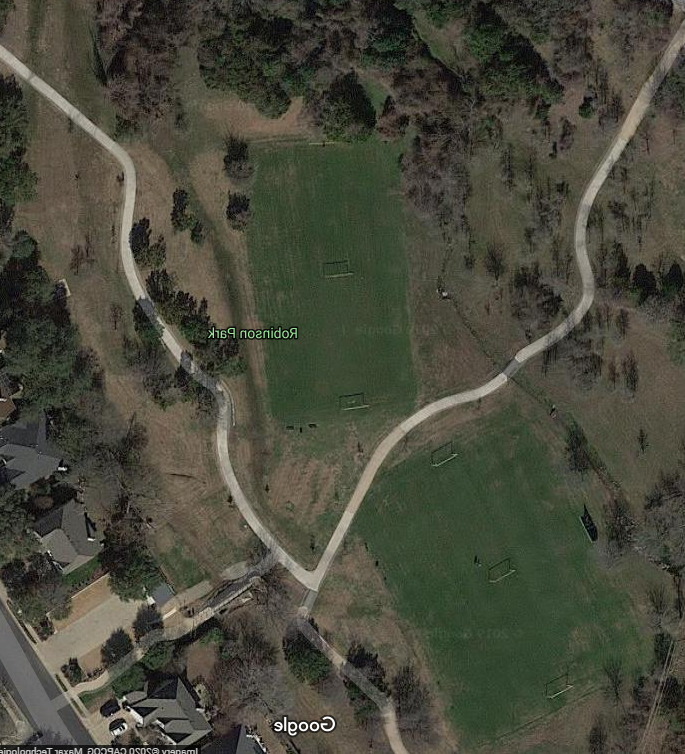soccer: (352, 475, 684, 732), (225, 126, 430, 423)
